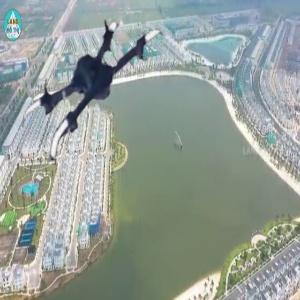drone: (19, 12, 185, 178)
